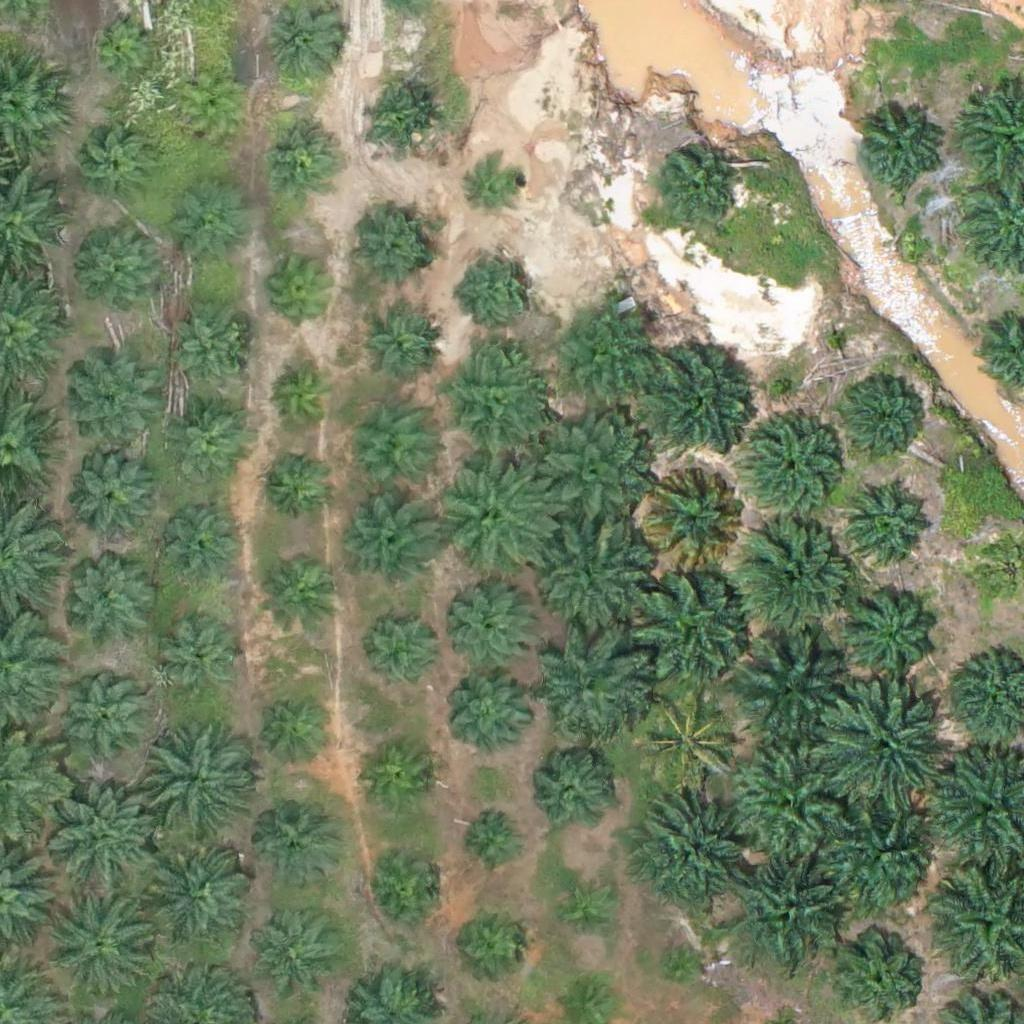Kelapa_Sawit: (432, 448, 557, 574), (136, 721, 261, 847), (40, 769, 165, 895), (635, 333, 760, 459), (629, 567, 754, 693), (532, 514, 657, 640), (529, 620, 654, 746), (731, 509, 856, 635), (727, 740, 852, 866), (634, 787, 759, 913), (815, 683, 940, 809), (824, 802, 949, 928), (720, 846, 845, 972), (524, 413, 649, 538), (730, 625, 855, 750), (630, 681, 743, 795), (637, 462, 750, 575), (549, 296, 661, 410), (738, 412, 850, 526), (439, 348, 551, 461), (446, 573, 546, 674), (839, 577, 939, 678), (141, 844, 241, 944), (50, 892, 150, 992), (338, 404, 438, 504), (352, 209, 440, 297), (250, 906, 338, 994), (444, 667, 532, 755), (164, 402, 252, 490), (161, 619, 249, 707), (70, 359, 158, 447), (67, 448, 155, 536), (64, 676, 152, 764), (855, 107, 943, 195), (76, 228, 163, 317), (356, 306, 443, 394), (654, 148, 741, 236), (347, 494, 434, 582), (163, 310, 250, 398), (155, 504, 242, 592), (61, 559, 148, 647), (250, 799, 337, 887), (524, 747, 611, 835), (847, 477, 934, 565), (842, 372, 929, 460), (360, 84, 435, 160), (263, 559, 338, 635), (258, 448, 333, 524), (264, 360, 339, 436), (462, 247, 537, 323), (363, 851, 438, 927), (77, 127, 152, 202), (174, 191, 249, 266), (261, 118, 336, 193), (267, 251, 342, 326), (260, 695, 335, 770), (360, 735, 435, 810), (369, 615, 444, 690), (451, 909, 526, 984), (554, 882, 617, 945), (178, 75, 241, 138), (467, 156, 529, 219), (461, 805, 523, 868), (87, 15, 149, 77), (653, 938, 703, 988)
